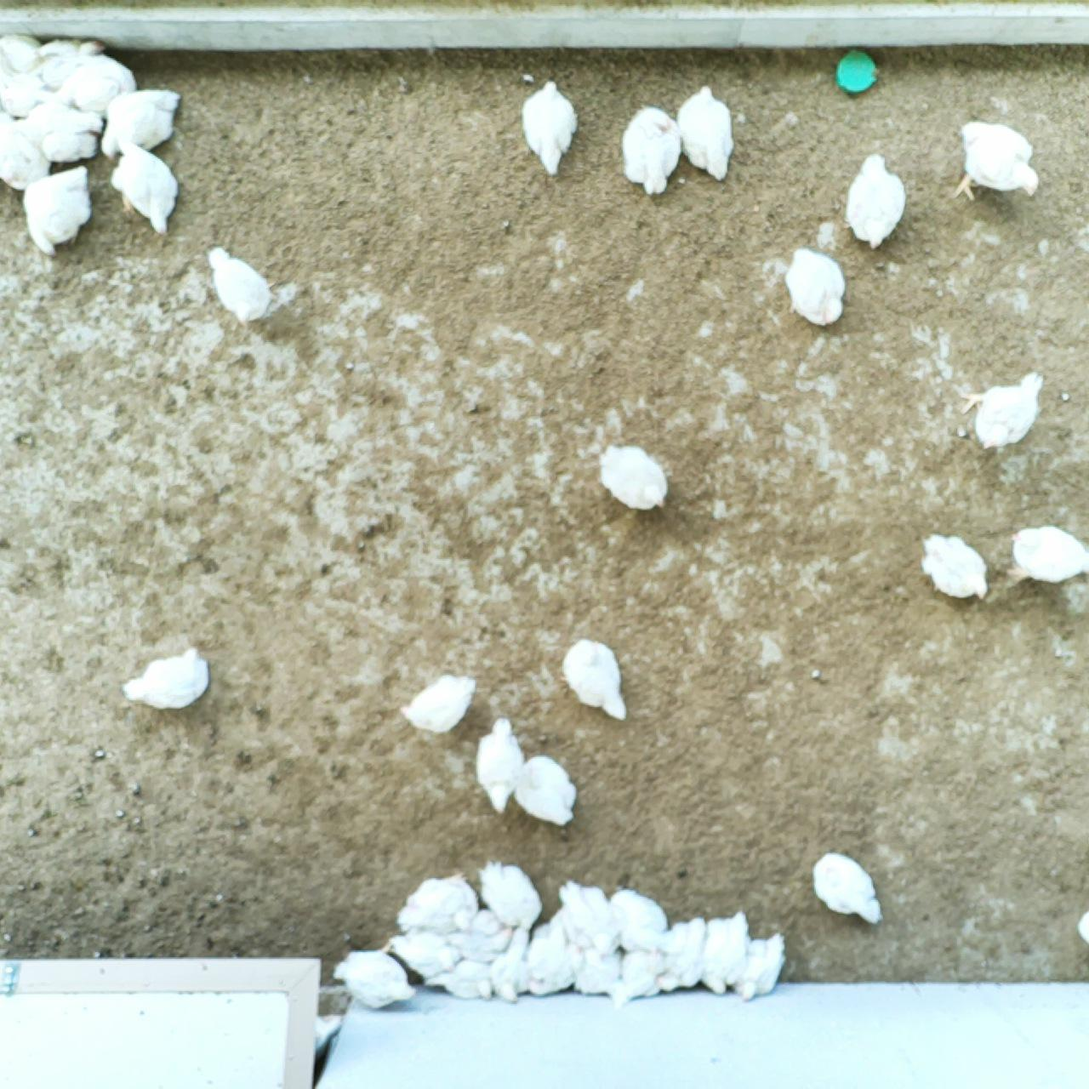chicken: (951, 117, 1041, 204), (22, 160, 93, 256), (960, 374, 1046, 449), (97, 84, 184, 158), (521, 78, 586, 177), (111, 141, 180, 233), (120, 645, 212, 712), (677, 81, 737, 183), (844, 151, 906, 249), (208, 244, 282, 326), (391, 867, 483, 932), (561, 637, 632, 721), (809, 848, 885, 925), (333, 938, 414, 1009), (554, 879, 626, 955), (1004, 522, 1089, 586), (623, 103, 684, 192), (695, 909, 754, 1001), (600, 440, 673, 512), (474, 718, 528, 815), (784, 245, 845, 329), (27, 95, 104, 161), (922, 533, 993, 604), (472, 857, 540, 931), (52, 55, 141, 111), (515, 753, 580, 825), (486, 922, 544, 1002), (402, 672, 478, 733), (381, 921, 462, 978), (523, 918, 582, 996), (31, 33, 106, 91), (0, 108, 55, 187), (731, 932, 791, 1003), (603, 884, 664, 952), (659, 915, 708, 996), (491, 927, 539, 1002), (423, 955, 497, 1001), (608, 951, 667, 1007), (445, 912, 509, 961), (0, 67, 48, 122), (569, 949, 619, 998), (0, 31, 47, 73), (308, 1013, 343, 1060), (1078, 910, 1089, 946)
